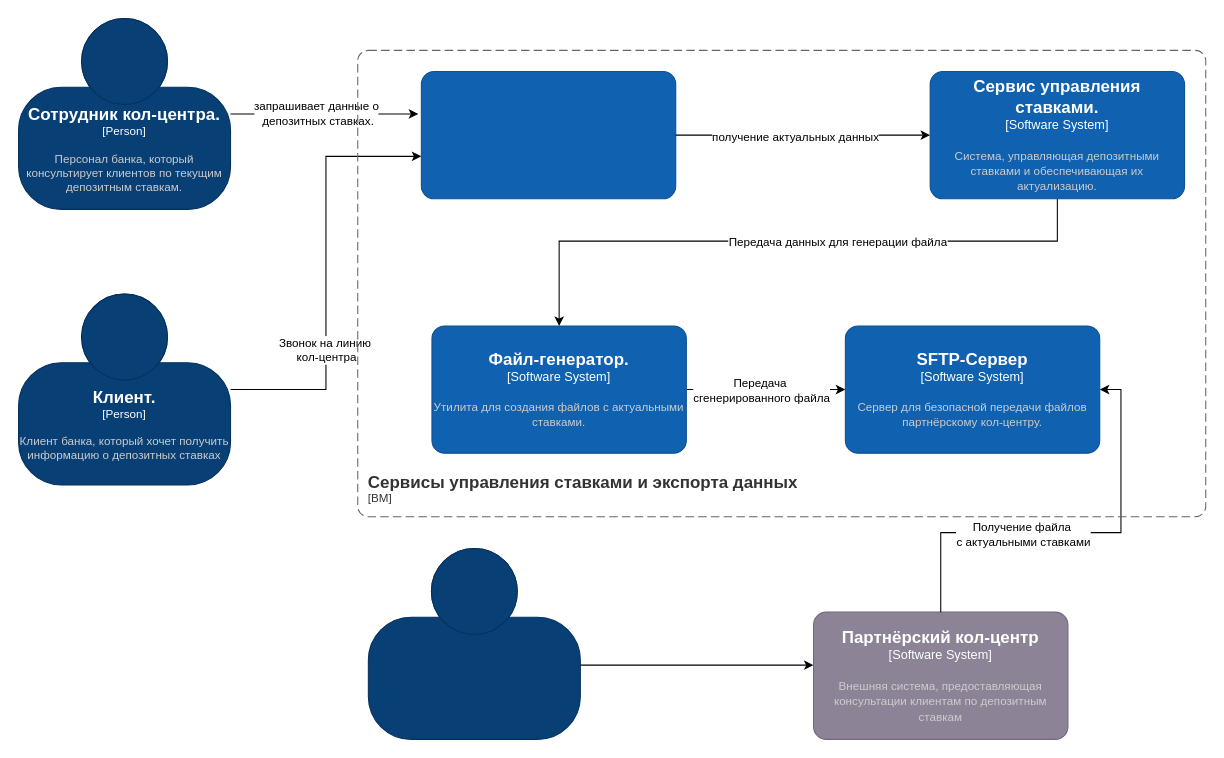
The diagram is 1224 pixels wide and 758 high, and some of its shapes have lost their labels. The centre of each missing label's shape, as x and y in pixels:
CRM-Система кол-центра. [Software System] Система управления клиентами: pixel 548 134
Сотрудник кол-центра. [Person] Внешняя система, обрабатывающая звонки клиентов: pixel 473 643
